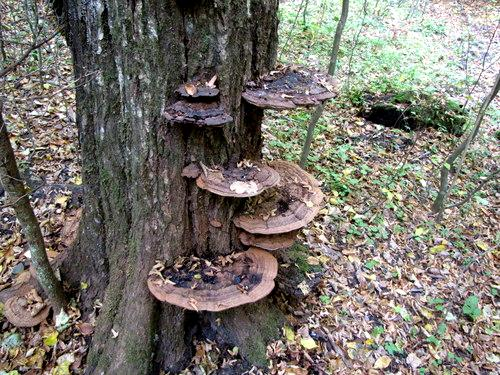Ganoderma - Fruit Body: (147, 253, 279, 313), (231, 161, 323, 234), (243, 65, 334, 117), (162, 79, 233, 133), (197, 159, 280, 197), (236, 224, 301, 248), (4, 298, 54, 325)
